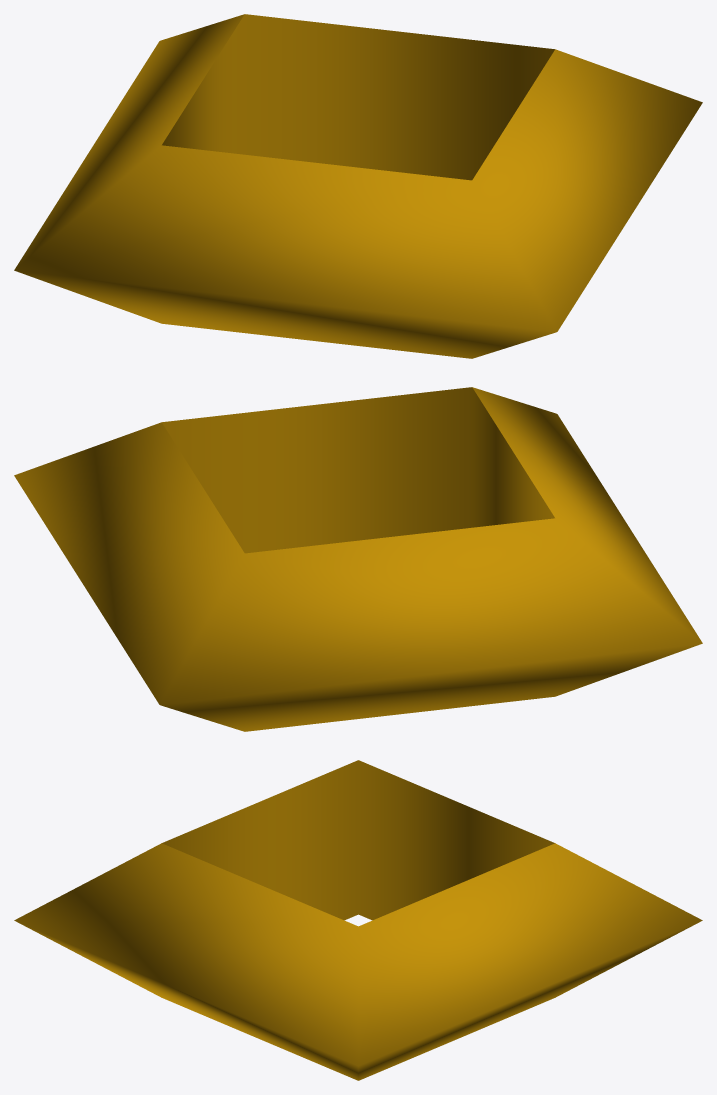
Rendered from Ring.glb.
The picture shows the model from 3 angles, top to bottom: view 1: azimuth 30°, elevation 25°; view 2: azimuth 150°, elevation 25°; view 3: azimuth 270°, elevation 25°; orthographic projection. The views are drawn at different scales.
Visible parts, largest first — view 1: Torus; view 2: Torus; view 3: Torus.
Part boxes in pixels (left/top/right/bottom): Torus: left=14, top=14, right=702, bottom=358; Torus: left=14, top=387, right=702, bottom=731; Torus: left=14, top=760, right=702, bottom=1080.
Size of the model in its own units: 0.56 by 0.1386 by 0.56.
